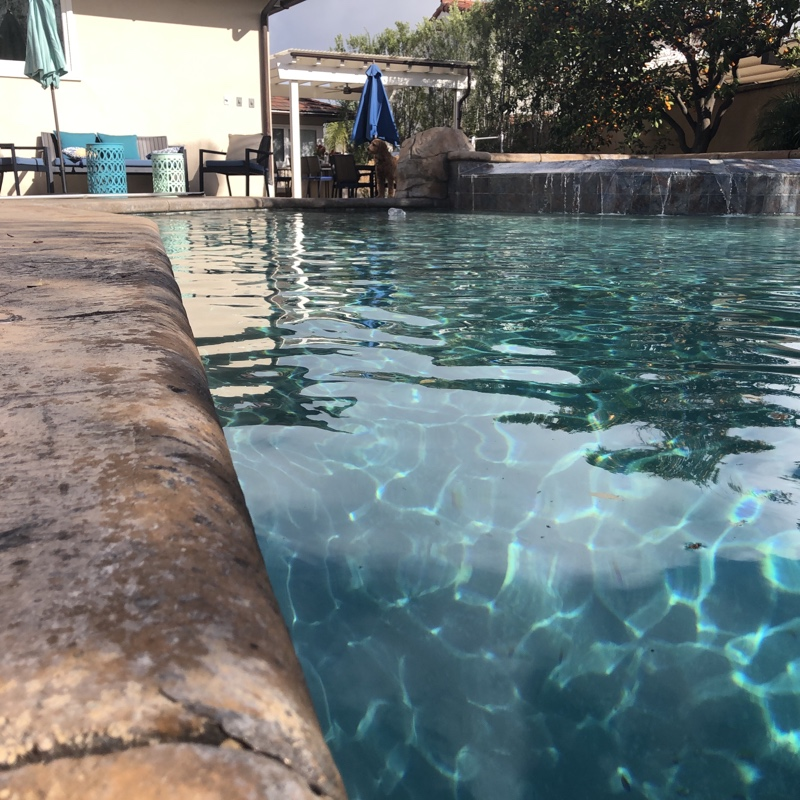Plastic Bottle: (384, 205, 407, 221)
